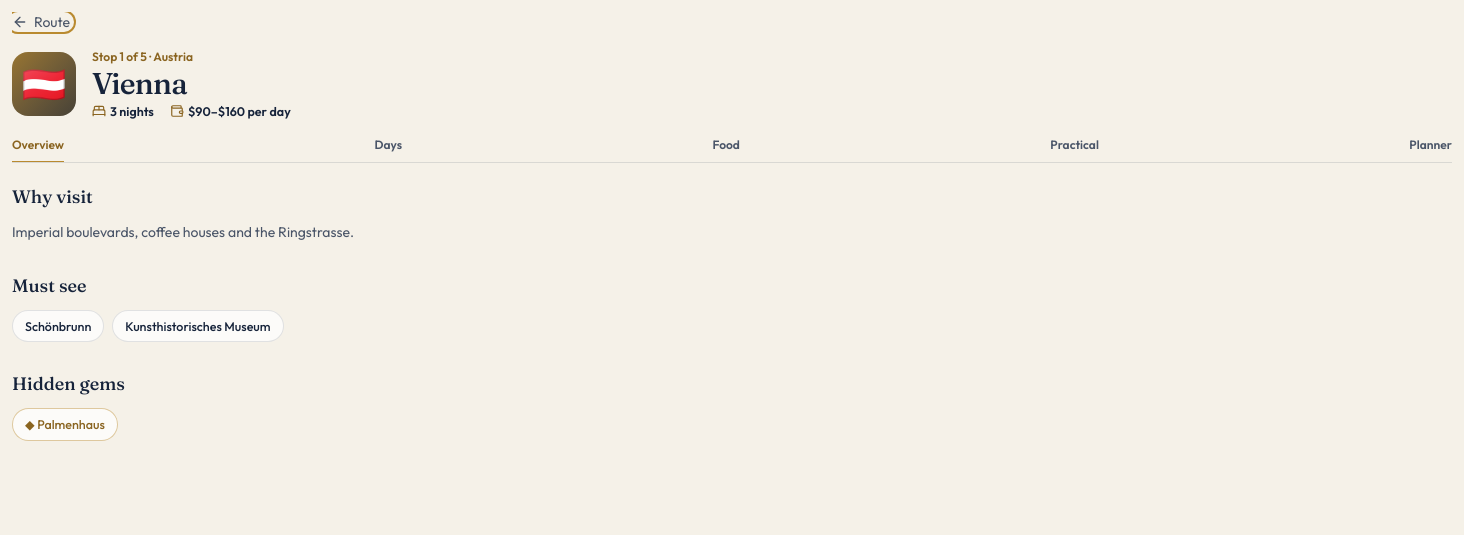
Scenario: CityDetail › computes a total in the planner budget calculator
The image size is (1464, 535).
Click the tab "Planner": (1431, 150) x1=1409 y1=137 x2=1452 y2=163
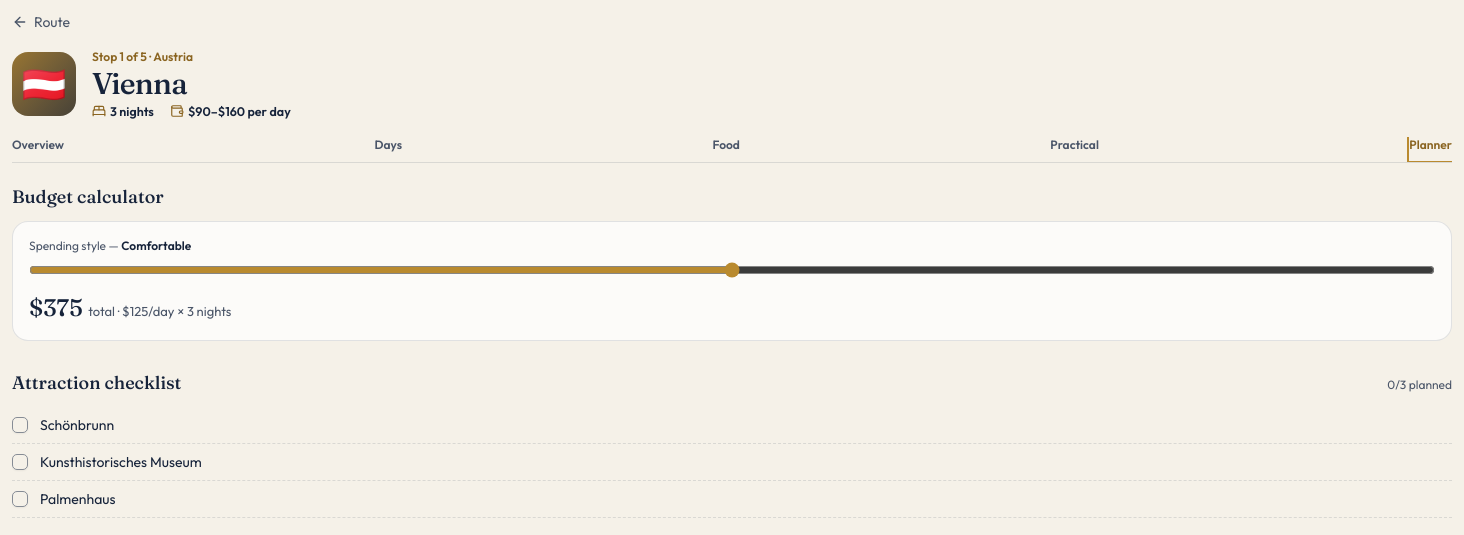
Expected: the text "$375 total · $125/day × 3 nights" is shown, x1=29 y1=293 x2=231 y2=322
Expected: the text "Comfortable" is shown, x1=121 y1=238 x2=191 y2=253
